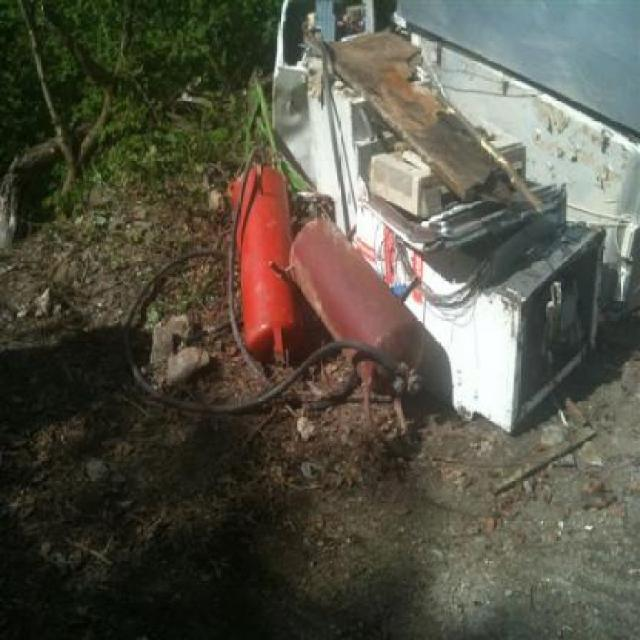garbage: (165, 43, 636, 450)
